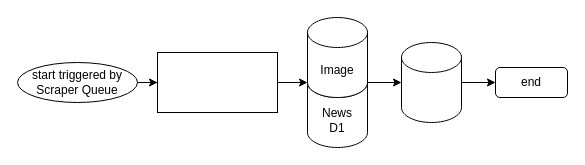
Some shapes in this 585 by 165 pixel diagram are drawn without their labels. The shapes that lost their labels are listed below. From the top down, each one's centre as x and y in pixels, then its label:
At point (217, 82): "Extract News information".
At point (431, 82): "Messenger Queue".
